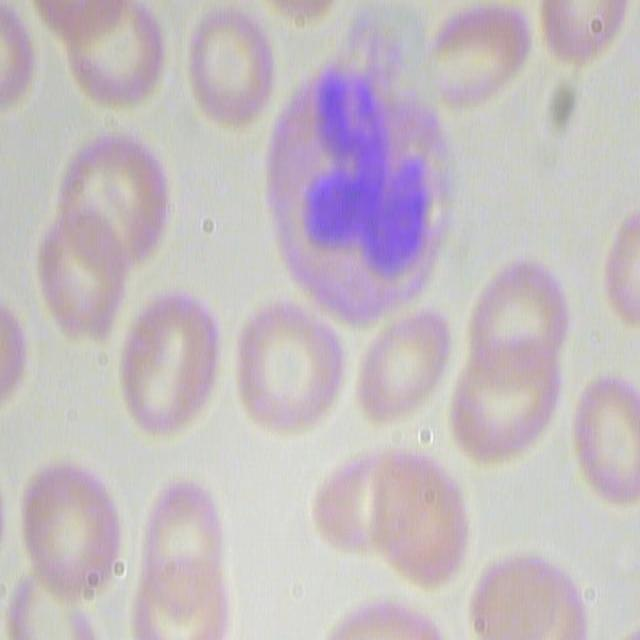RBC: (446, 257, 571, 472), (316, 441, 472, 583), (228, 295, 350, 440), (126, 476, 232, 640), (52, 125, 174, 267), (115, 286, 223, 442), (18, 460, 129, 598), (424, 3, 534, 124), (59, 0, 175, 113), (183, 1, 281, 133), (348, 302, 450, 424), (37, 218, 130, 342), (467, 551, 596, 638), (567, 373, 640, 507), (6, 569, 102, 640), (532, 0, 632, 64), (603, 208, 640, 335)
WBC: (262, 46, 450, 302)
